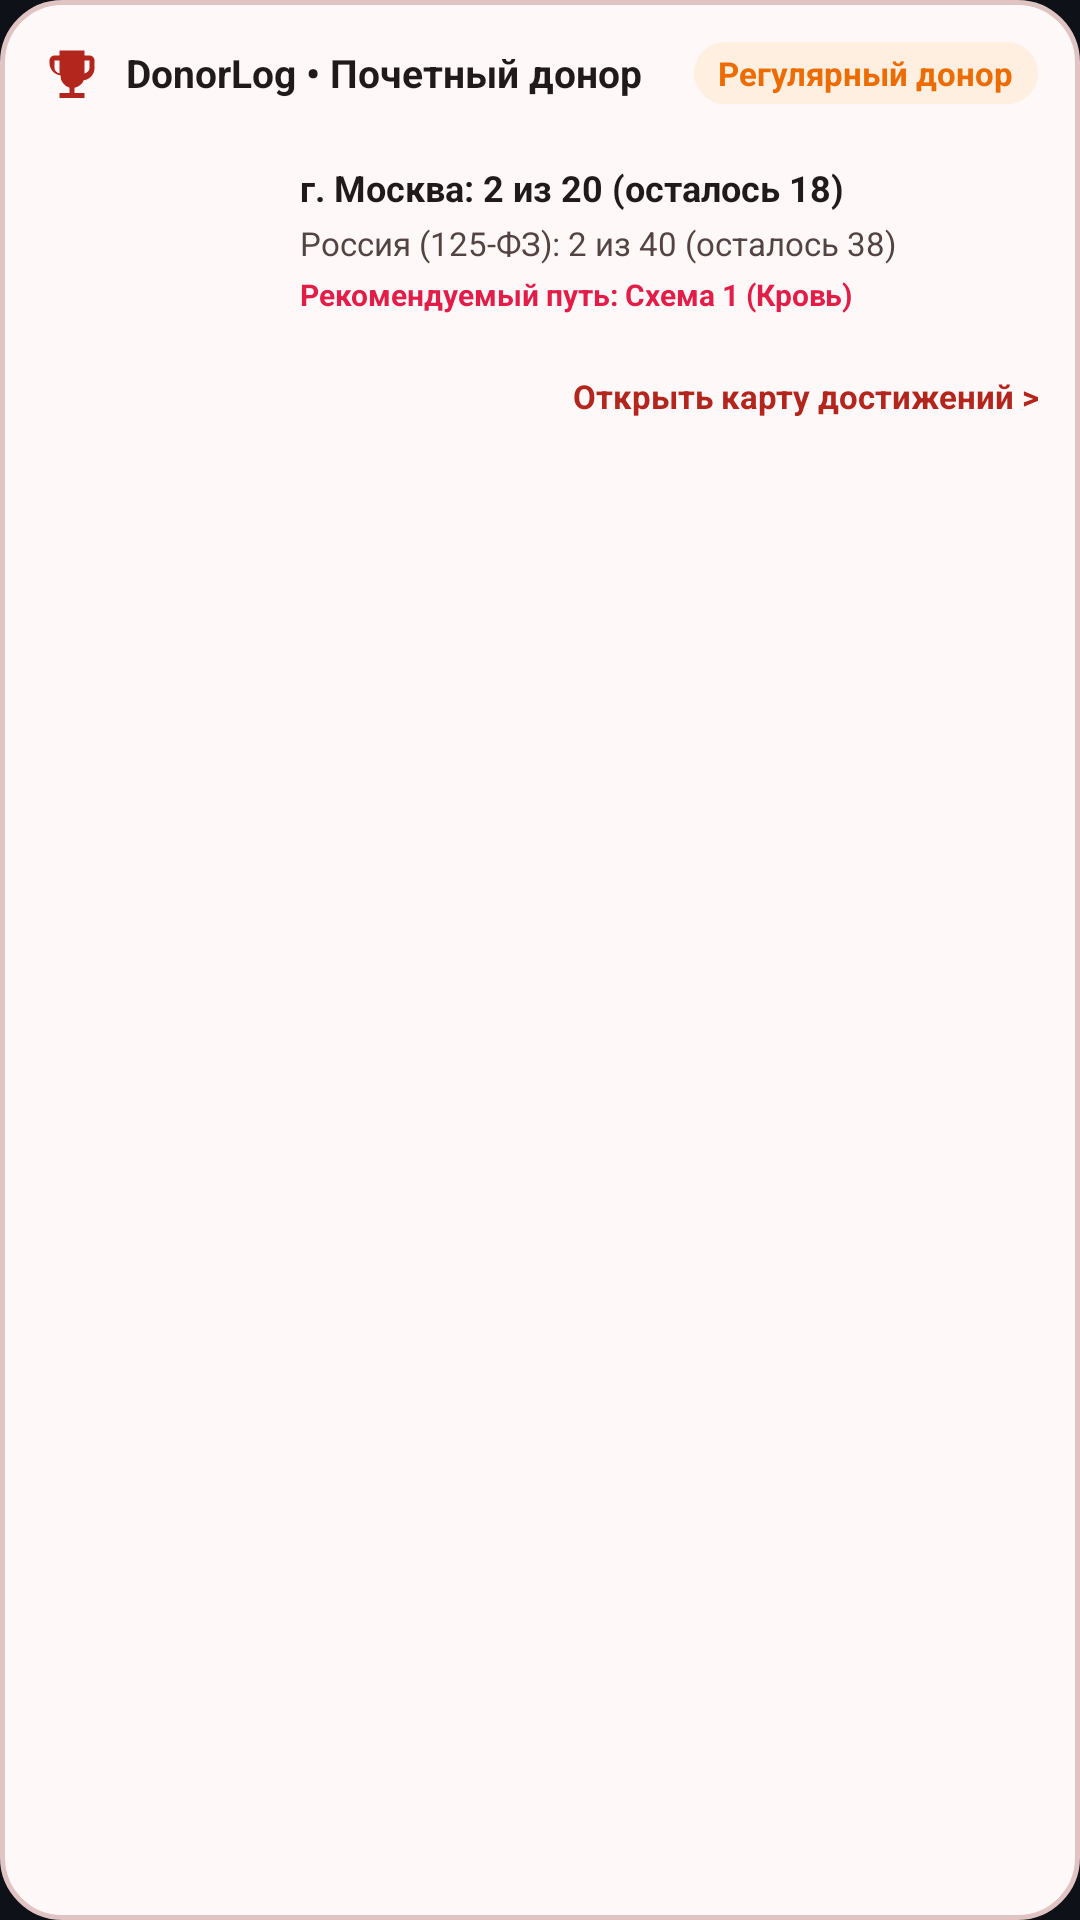

Named icons in this screenshot (1080x1920) and their centers, (x,y):
award: (72,74)
